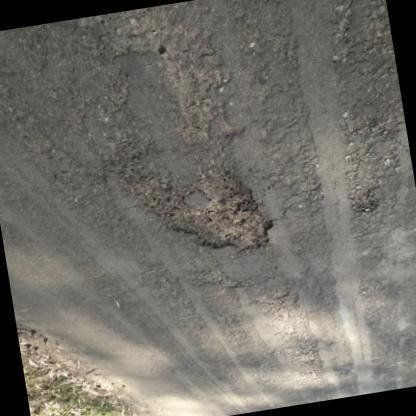pothole: (112, 8, 248, 144), (108, 152, 278, 255)
